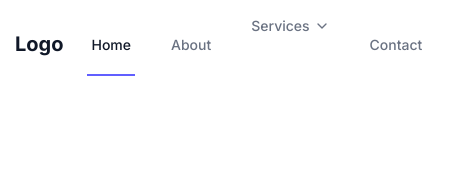
Test: MobileNavigation › toggles submenu when clicked on desktop
Expected: the text "Service 1" is not shown
# Click the Services menu item
Click the button "Services": (290, 25) [247,12,334,38]
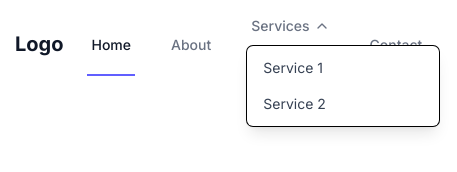
Now the link "Service 1" is shown, box [263,59,323,76]
Now the link "Service 2" is shown, box [263,95,326,112]
# Click the Services menu item again to close the submenu
Click the button "Services": (290, 25) [247,12,334,38]
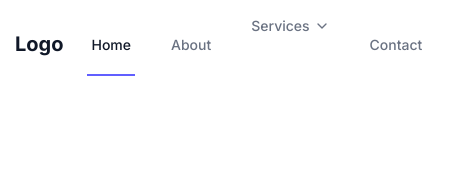
Now the link "Service 1" is gone
